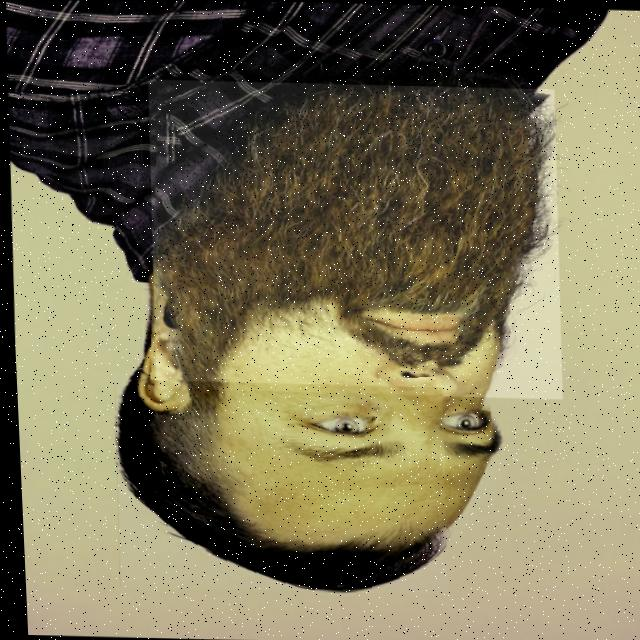beard: (150, 84, 554, 389)
hair: (112, 379, 440, 590)
